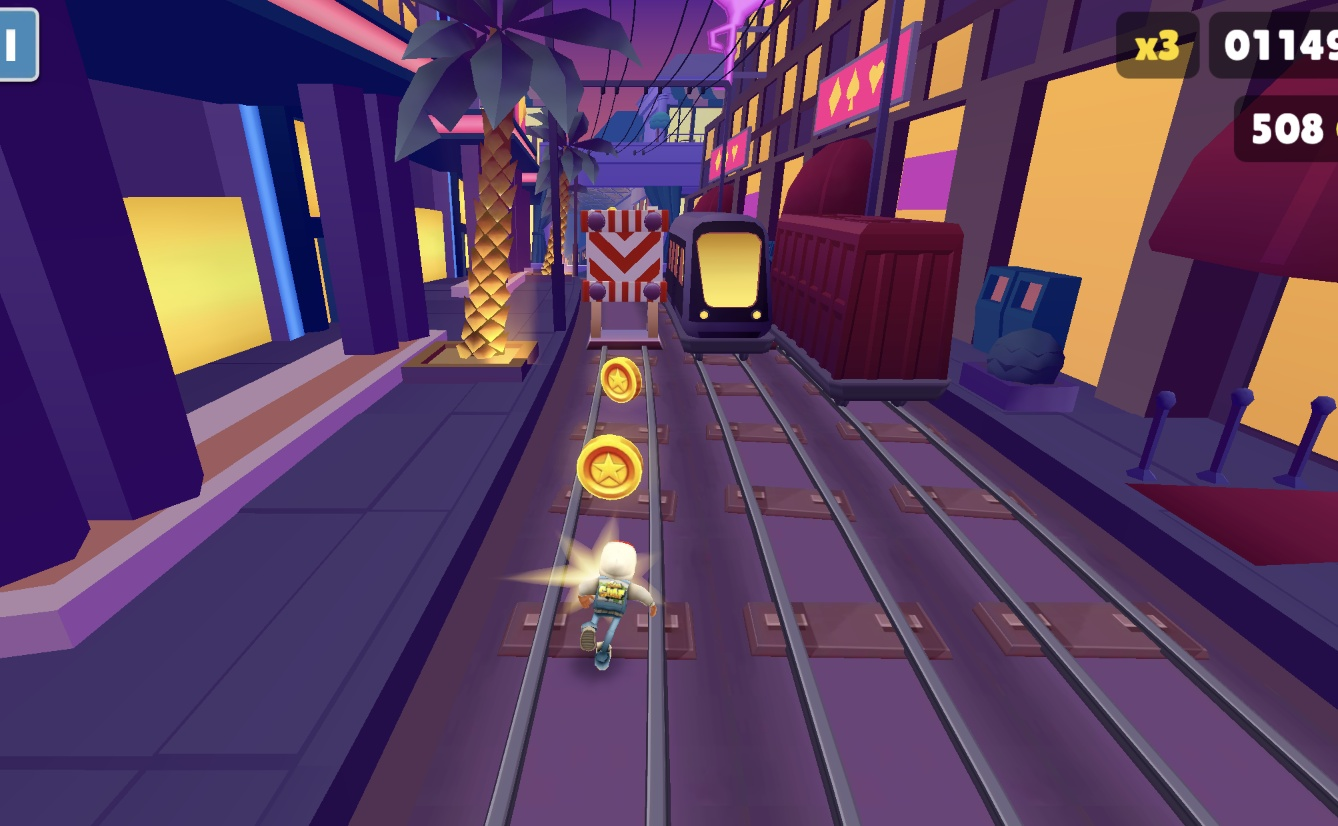overhead_barrier: (579, 210, 664, 347)
train: (771, 215, 966, 377), (674, 217, 774, 352)
